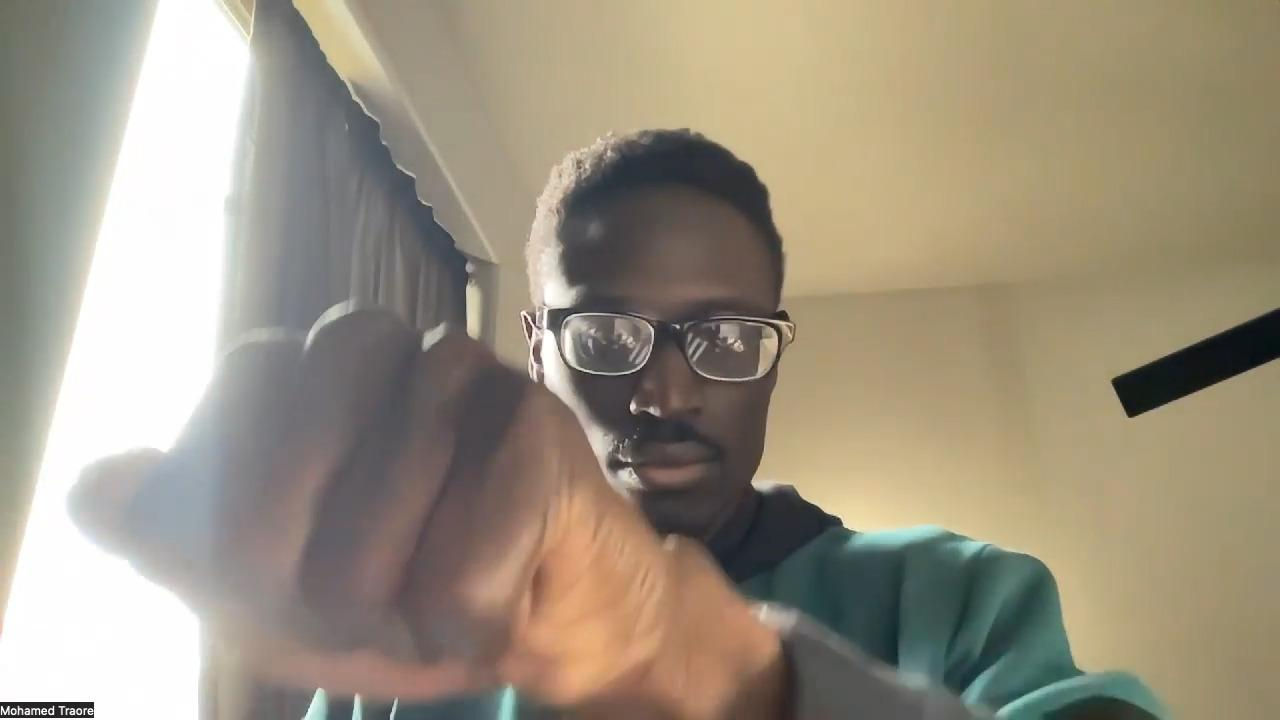Rock: (67, 300, 679, 706)
